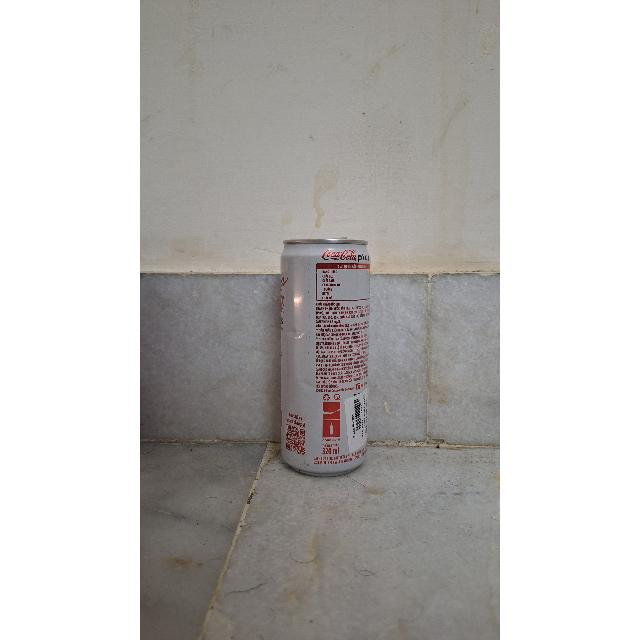Coca Cola Plus: (266, 223, 388, 475)
